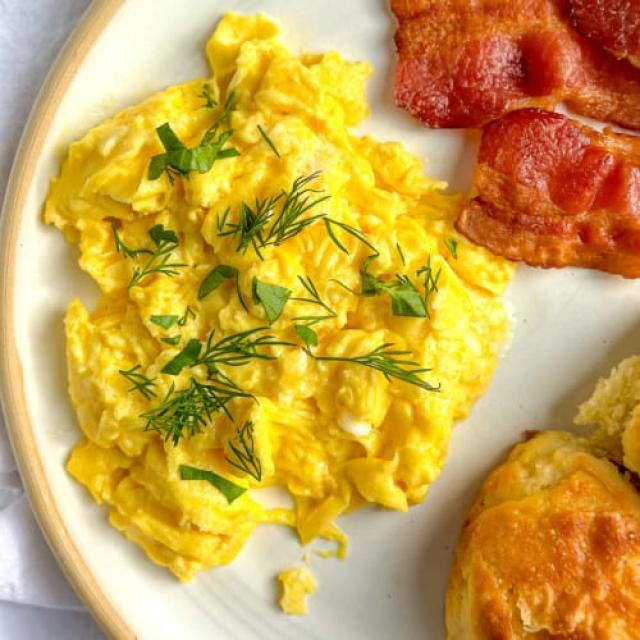eggs: (71, 36, 453, 498)
